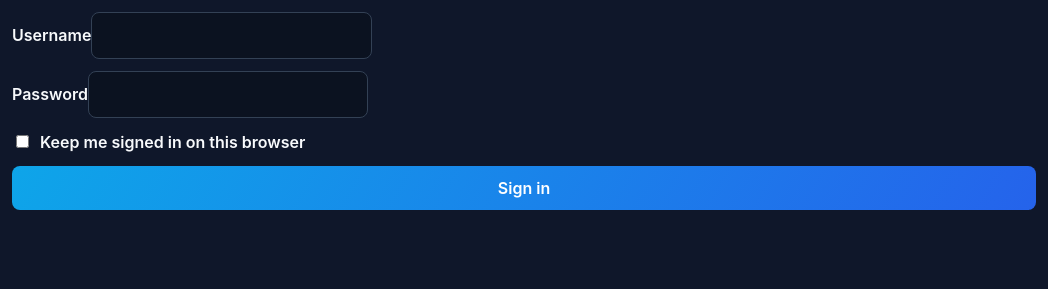
LoginForm › surfaced backend error when login fails
The image size is (1048, 289).
In the field with test id "login-username": (232, 35) [91,12,372,59], type "demo"
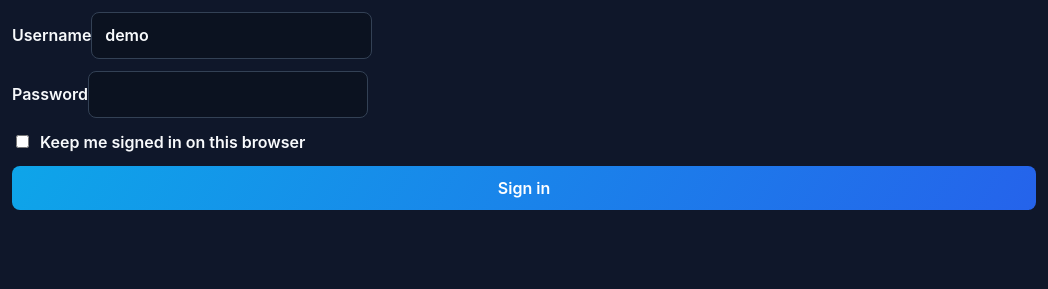
In the password field with test id "login-password": (228, 94) [88,71,368,118], type "wrong"
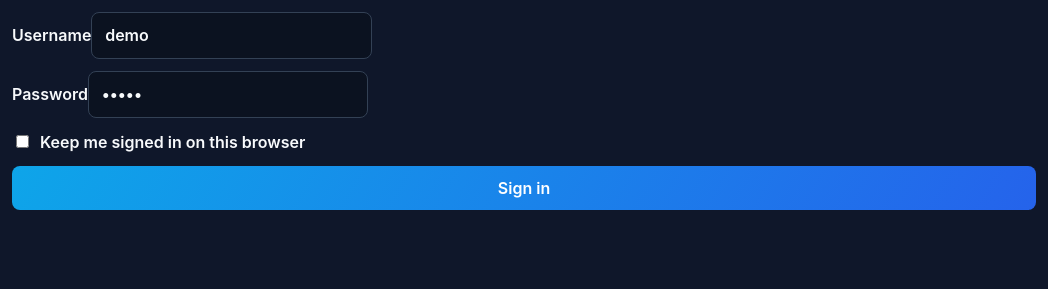
Click the button with test id "login-submit": (524, 188) [12,166,1036,210]
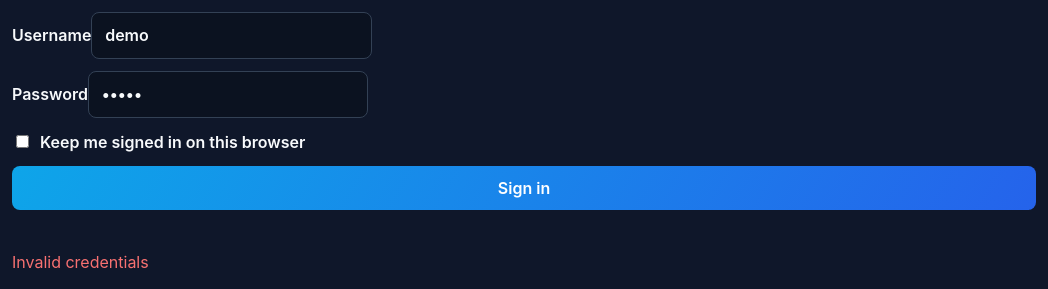
Result: the text "Invalid credentials" is shown at [12,252,149,272]
